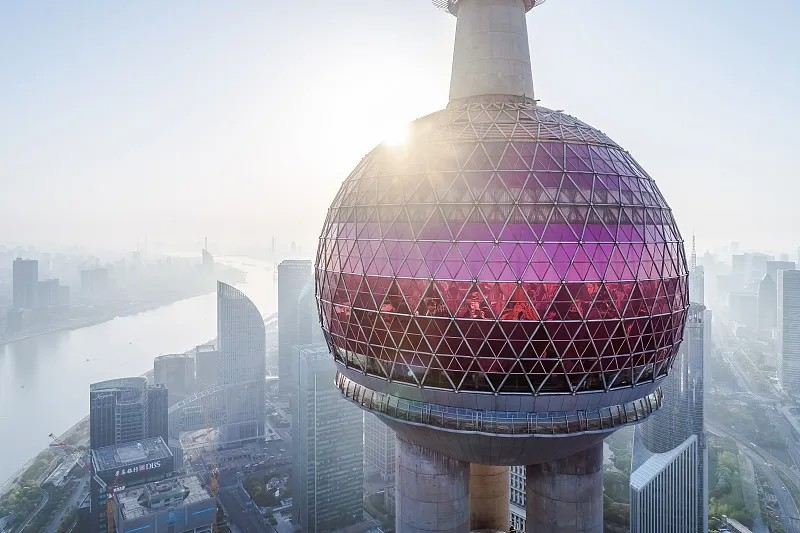Oriental: (315, 1, 692, 533)
